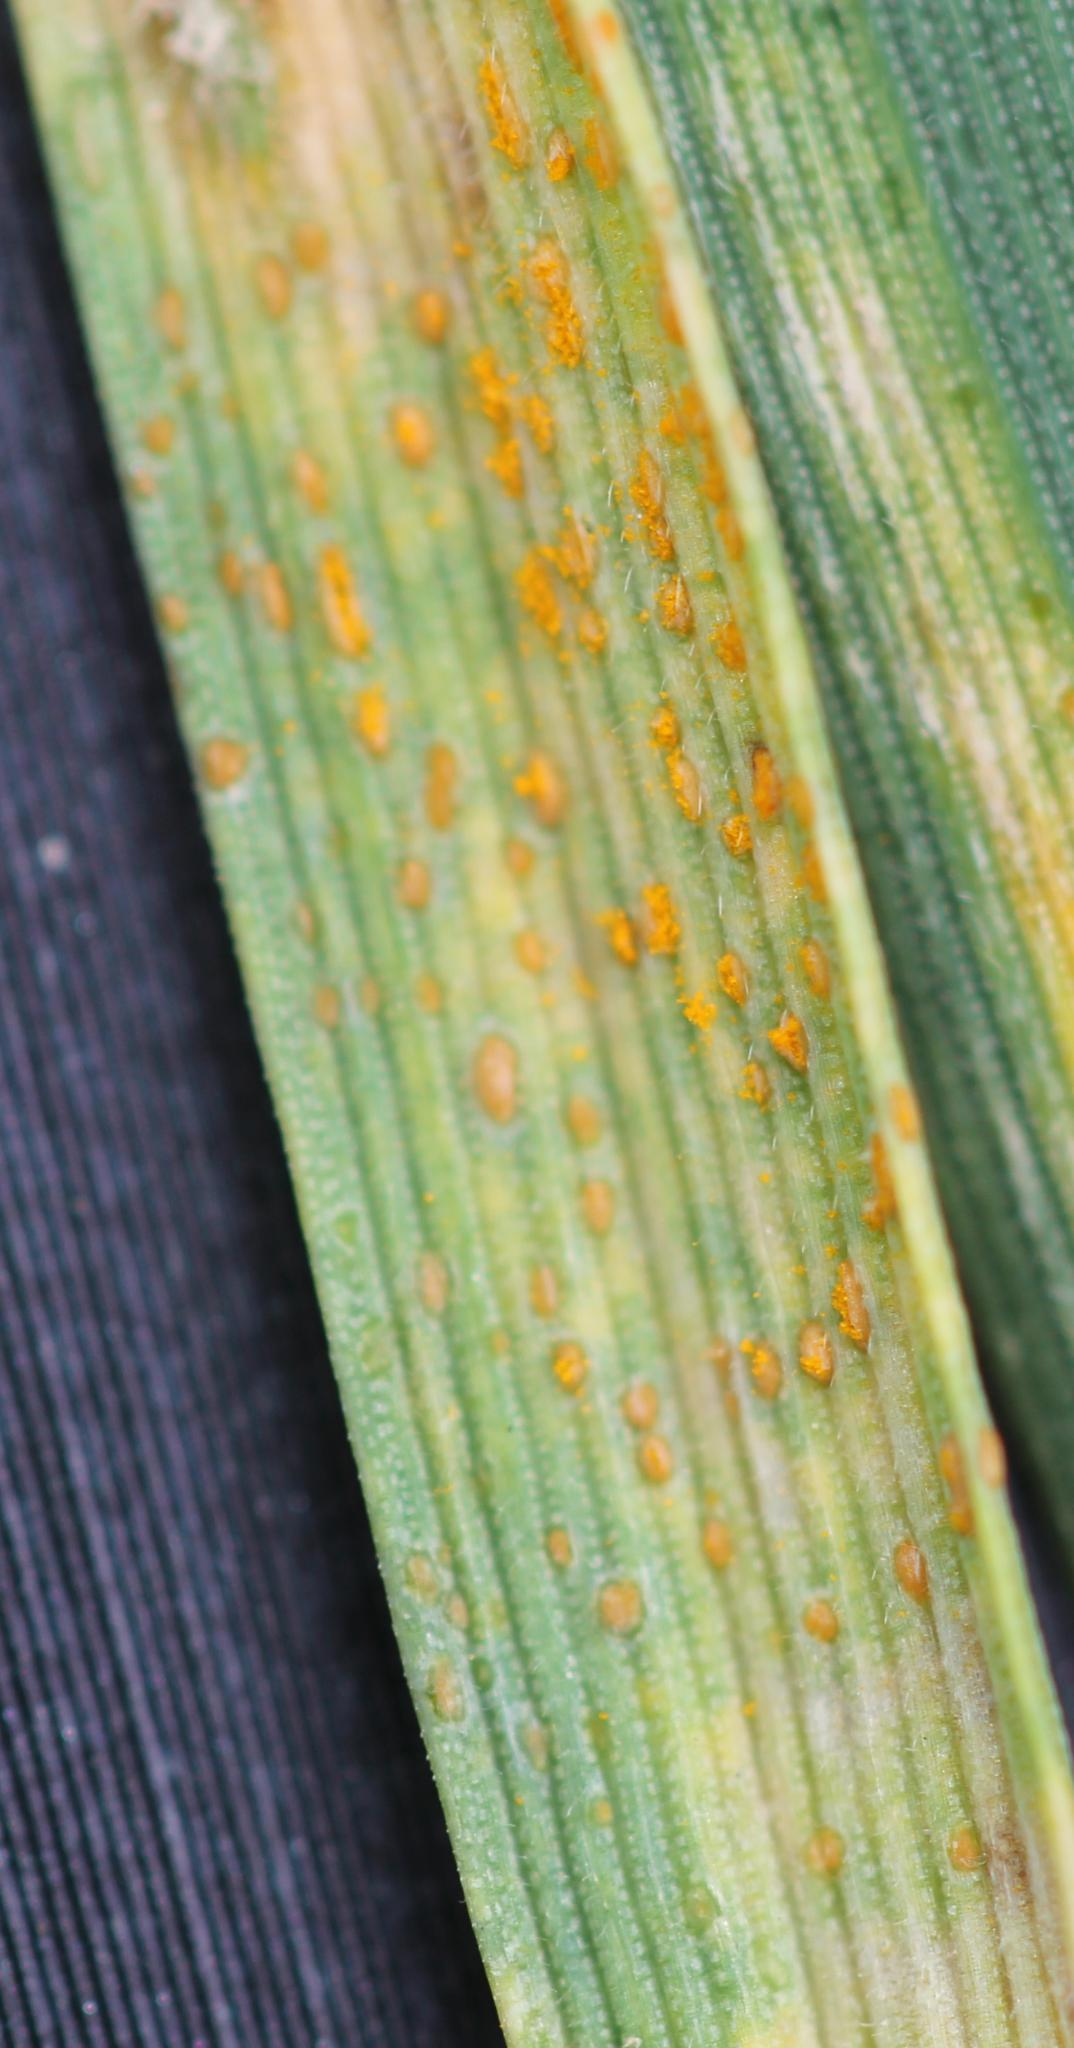Wheat: (119, 24, 609, 1639), (634, 329, 1021, 2026)
